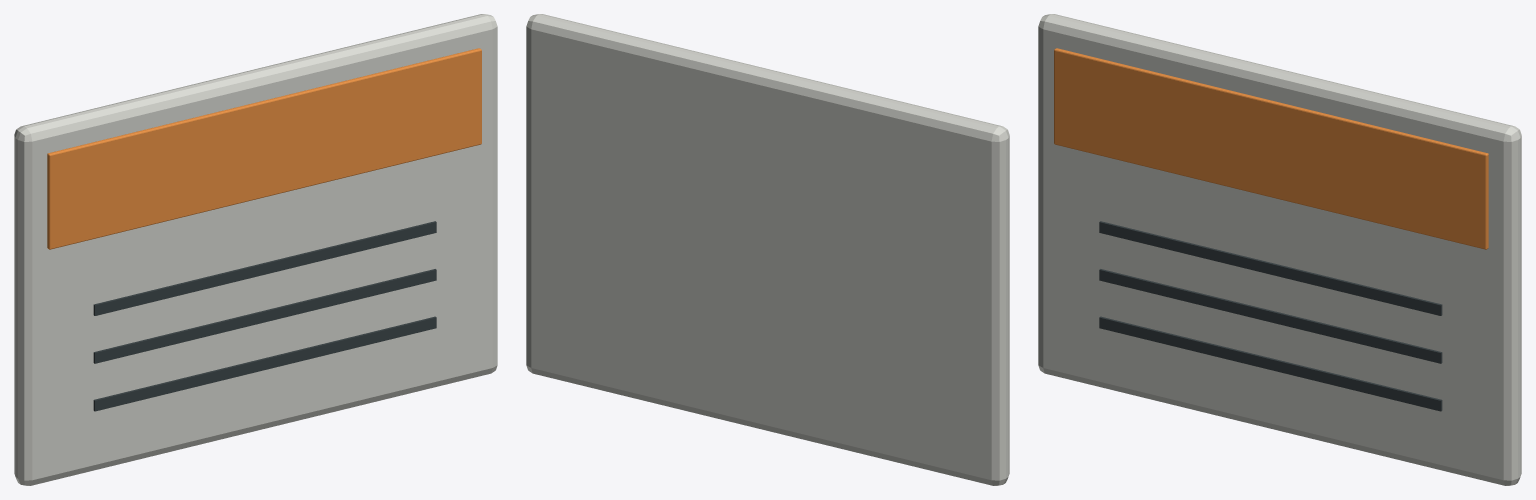
File: SafetySign.fbx
3 renders of one model, left to right at view 1: azimuth 30°, elevation 25°; view 2: azimuth 150°, elevation 25°; view 3: azimuth 330°, elevation 25°, orthographic.
Visible parts, largest first — view 1: Backing, Header, PrintedLine.002, PrintedLine.001, PrintedLine; view 2: Backing; view 3: Backing, Header, PrintedLine.002, PrintedLine.001, PrintedLine.
Part boxes in pixels (box(x1,y1,x2,y2)): Backing: box(14, 14, 497, 485); Header: box(47, 48, 481, 249); PrintedLine.002: box(93, 316, 436, 411); PrintedLine.001: box(93, 269, 436, 363); PrintedLine: box(93, 221, 436, 315); Backing: box(526, 14, 1009, 485); Backing: box(1038, 14, 1521, 485); Header: box(1054, 48, 1488, 249); PrintedLine.002: box(1099, 316, 1442, 411); PrintedLine.001: box(1099, 269, 1442, 363); PrintedLine: box(1099, 221, 1442, 315).
Bounding box in the file's own units: 42 × 30 × 2.5.
